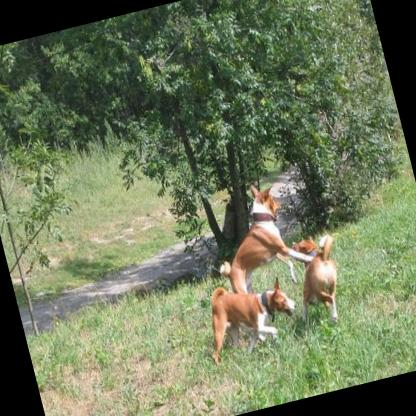basenji: (198, 170, 320, 300), (194, 268, 307, 368), (286, 230, 354, 330)
